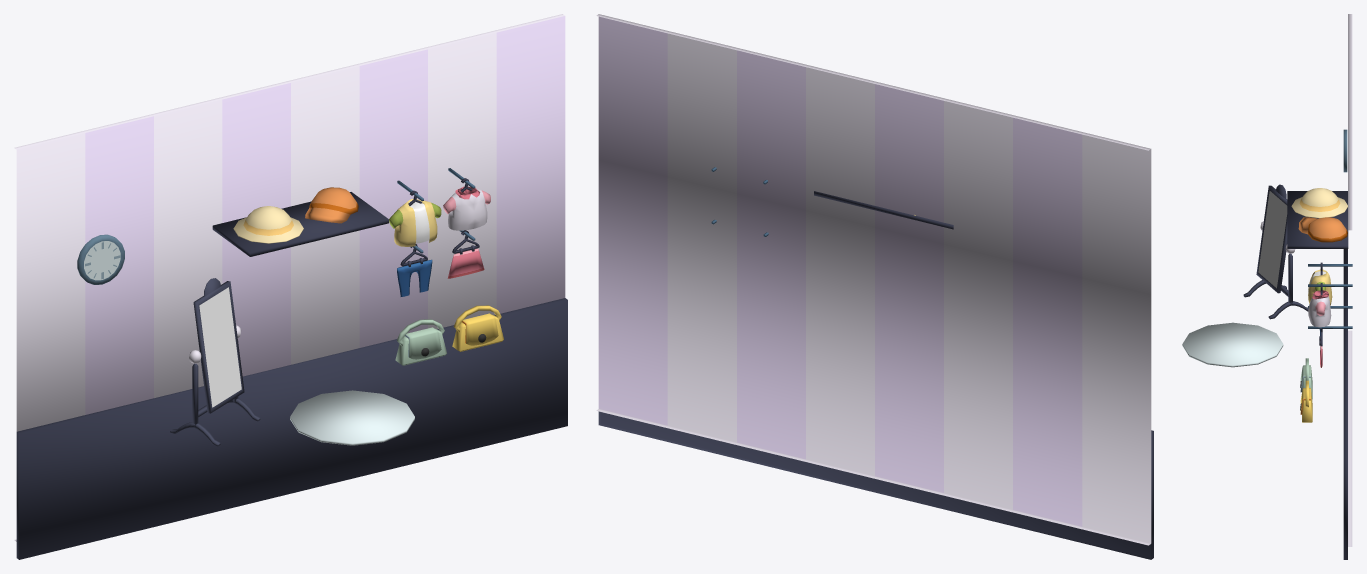
File: ClothShop.fbx
3 renders of one model, left to right at view 1: azimuth 30°, elevation 25°; view 2: azimuth 150°, elevation 25°; view 3: azimuth 270°, elevation 25°, orthographic. The views are drawn at different scales.
Visible parts, largest first — view 1: Cube, Cube.001, Cube.002, Cylinder, Cube.005, Cylinder.001, Cylinder.004, JP__Boy_01.002, Cube.006, Cylinder.006, JP__Boy_01.004, Cylinder.002 (+2 smaller); view 2: Cube, Cube.001, Cube.005; view 3: Cylinder, Cube.002, Cube, Cube.001, Cube.005, Cylinder.001, Cylinder.002, JP__Boy_01.004, JP__Boy_01.002, Cylinder.006, Cube.006.
Boxes of the visible parts, x1,y1,x2,y2 form: Cube: (14, 14, 565, 541); Cube.001: (16, 298, 567, 559); Cube.002: (170, 278, 260, 446); Cylinder: (290, 390, 414, 445); Cube.005: (212, 192, 388, 256); Cylinder.001: (233, 206, 303, 243); Cylinder.004: (77, 234, 124, 284); JP__Boy_01.002: (389, 199, 441, 246); Cube.006: (395, 319, 446, 365); Cylinder.006: (452, 305, 503, 351); JP__Boy_01.004: (443, 186, 490, 230); Cylinder.002: (305, 187, 358, 223); Cube: (596, 14, 1151, 545); Cube.001: (598, 411, 1153, 559); Cube.005: (814, 191, 953, 229); Cylinder: (1182, 322, 1283, 367); Cube.002: (1243, 184, 1308, 319); Cube: (1348, 14, 1352, 546); Cube.001: (1343, 249, 1347, 559); Cube.005: (1287, 191, 1348, 248); Cylinder.001: (1291, 188, 1347, 218); Cylinder.002: (1298, 217, 1347, 242); JP__Boy_01.004: (1308, 290, 1331, 327); JP__Boy_01.002: (1308, 269, 1332, 305); Cylinder.006: (1300, 380, 1312, 422); Cube.006: (1300, 358, 1312, 399).
Size of the model in its own units: 296 by 210 by 98.32.
Materials: 3 (3 with a texture image).
